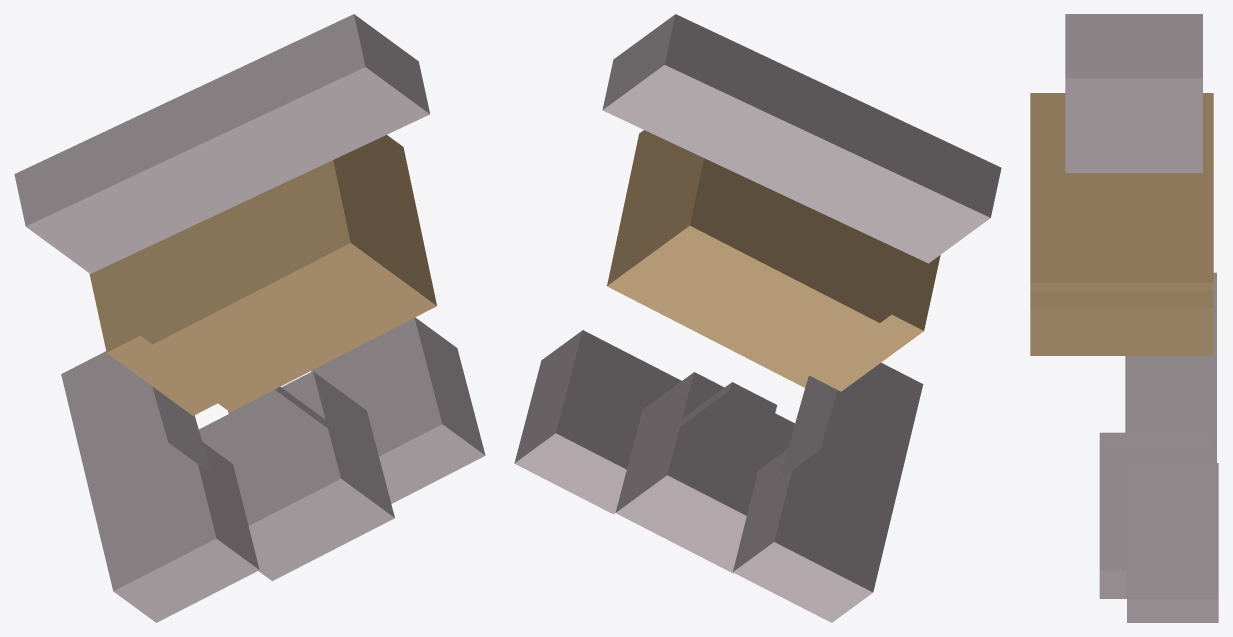
The picture shows the model from 3 angles, left to right: view 1: azimuth 30°, elevation 25°; view 2: azimuth 150°, elevation 25°; view 3: azimuth 270°, elevation 25°; orthographic projection. The views are drawn at different scales.
Parts seen in each view (by area): view 1: 0_3_2_3_2_1_1_2; view 2: 0_3_2_3_2_1_1_2; view 3: 0_3_2_3_2_1_1_2.
Part boxes in pixels (x1=…): 0_3_2_3_2_1_1_2: x1=14, y1=14, x2=485, y2=622; 0_3_2_3_2_1_1_2: x1=514, y1=14, x2=1001, y2=622; 0_3_2_3_2_1_1_2: x1=1030, y1=14, x2=1218, y2=622.
Bounding box in the file's own units: 69.82 × 80.45 × 24.66.
